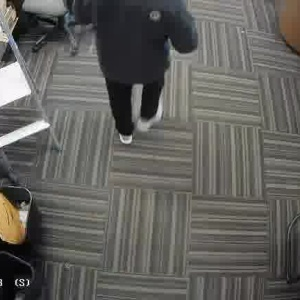person: (94, 0, 182, 138)
